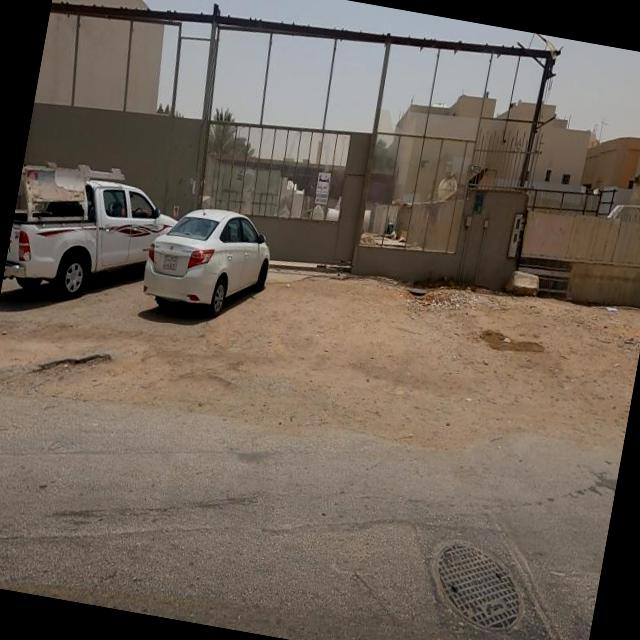debris: (586, 280, 635, 340)
